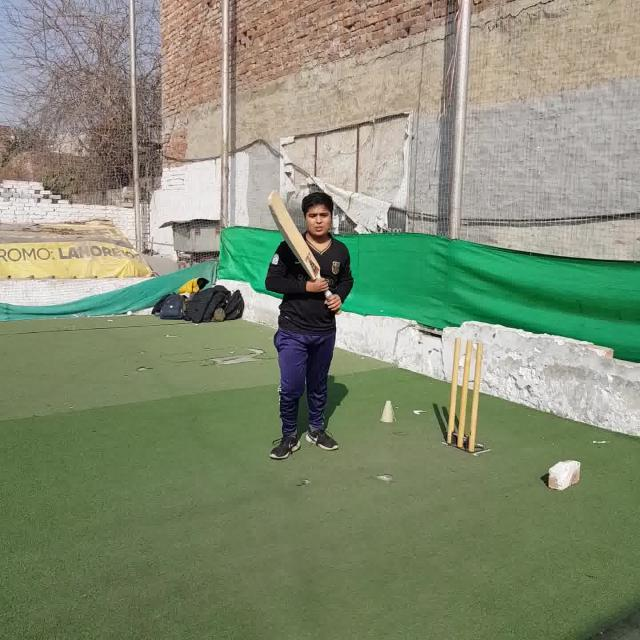ball: (127, 311, 133, 316)
bat: (267, 190, 341, 316)
